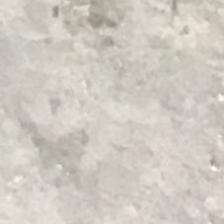Non_Crack: (31, 48, 224, 212)
